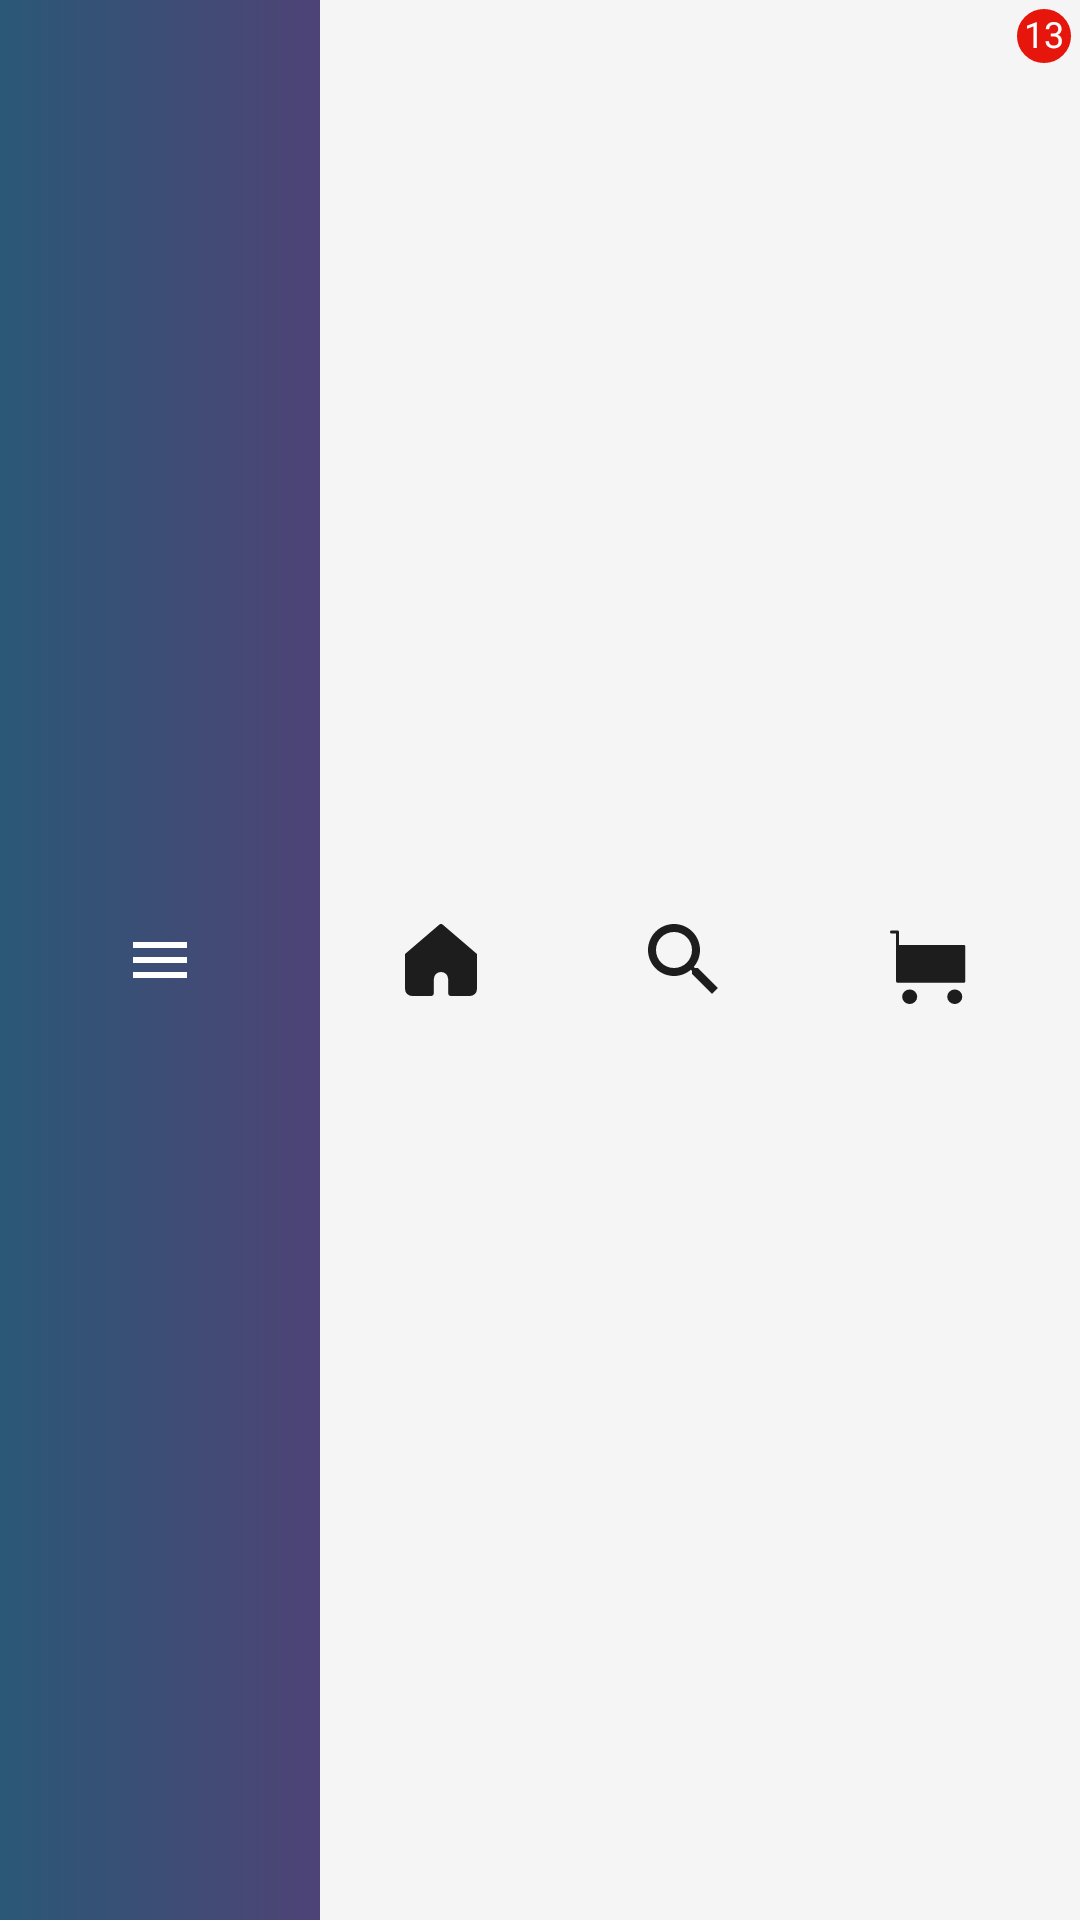

Screen size 1080 x 1920. Icon name, then its box in pixels as detection(x1, y1, x2, y2):
cart: detection(890, 930, 966, 1004)
home: detection(405, 924, 477, 996)
search: detection(648, 924, 718, 994)
